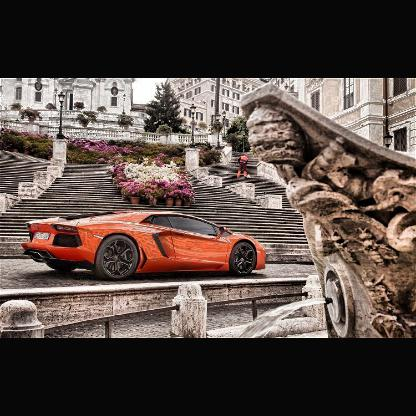Lamborghini Aventador Coupe 2012: (23, 206, 270, 285)
